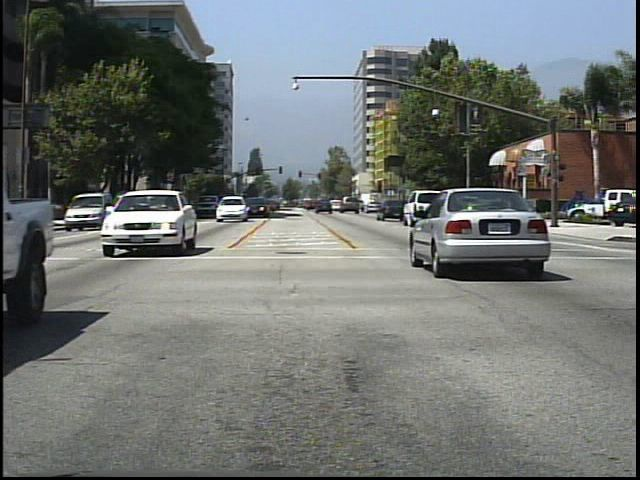person: (492, 191, 511, 229), (452, 193, 470, 228)
